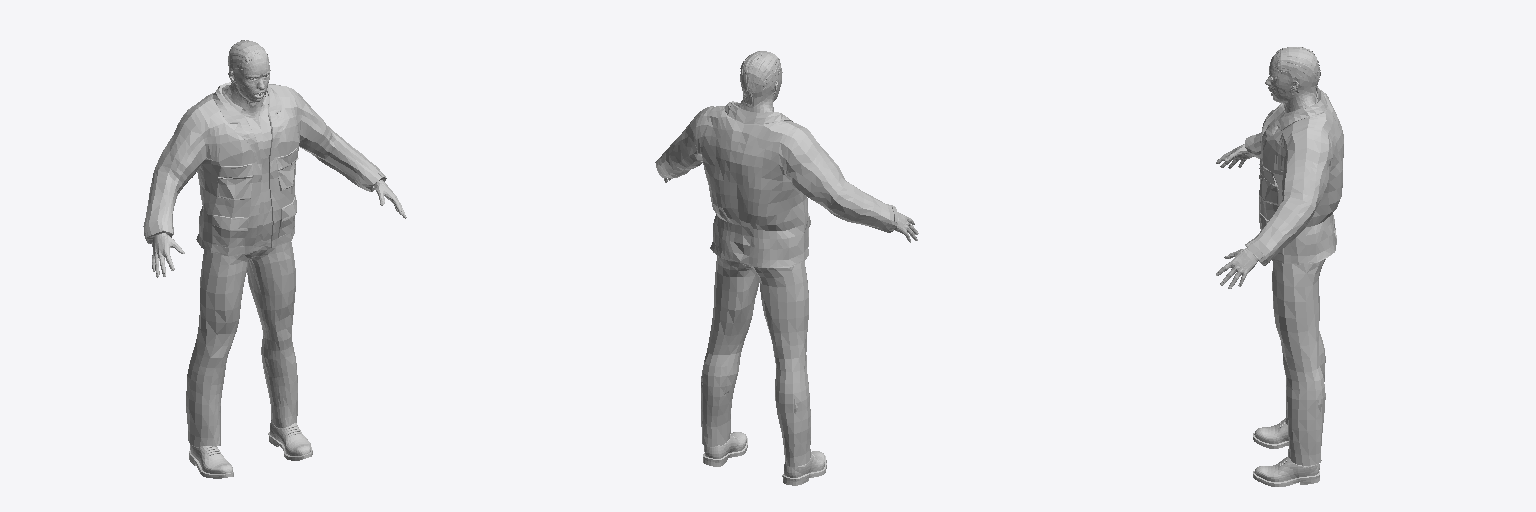
3 views of the same model, side by side, from view 1: azimuth 30°, elevation 25°; view 2: azimuth 150°, elevation 25°; view 3: azimuth 270°, elevation 25° (orthographic).
Visible parts, largest first — view 1: Ml1:Male_casualsuit05, Ml1:Body, Ml1:Shoes03, Ml1:Short04; view 2: Ml1:Male_casualsuit05, Ml1:Short04, Ml1:Shoes03, Ml1:Body; view 3: Ml1:Male_casualsuit05, Ml1:Body, Ml1:Shoes03, Ml1:Short04.
Boxes of the visible parts, x1=… form: Ml1:Male_casualsuit05: x1=143, y1=82, x2=386, y2=446; Ml1:Body: x1=152, y1=61, x2=406, y2=277; Ml1:Shoes03: x1=189, y1=420, x2=312, y2=478; Ml1:Short04: x1=228, y1=40, x2=269, y2=85; Ml1:Male_casualsuit05: x1=655, y1=101, x2=898, y2=466; Ml1:Short04: x1=740, y1=51, x2=781, y2=107; Ml1:Shoes03: x1=703, y1=432, x2=826, y2=485; Ml1:Body: x1=664, y1=72, x2=918, y2=242; Ml1:Male_casualsuit05: x1=1245, y1=87, x2=1343, y2=465; Ml1:Body: x1=1216, y1=59, x2=1316, y2=288; Ml1:Shoes03: x1=1253, y1=418, x2=1319, y2=486; Ml1:Short04: x1=1272, y1=47, x2=1320, y2=95.
Bounding box in the file's own units: 1.31 × 2.08 × 0.5843.